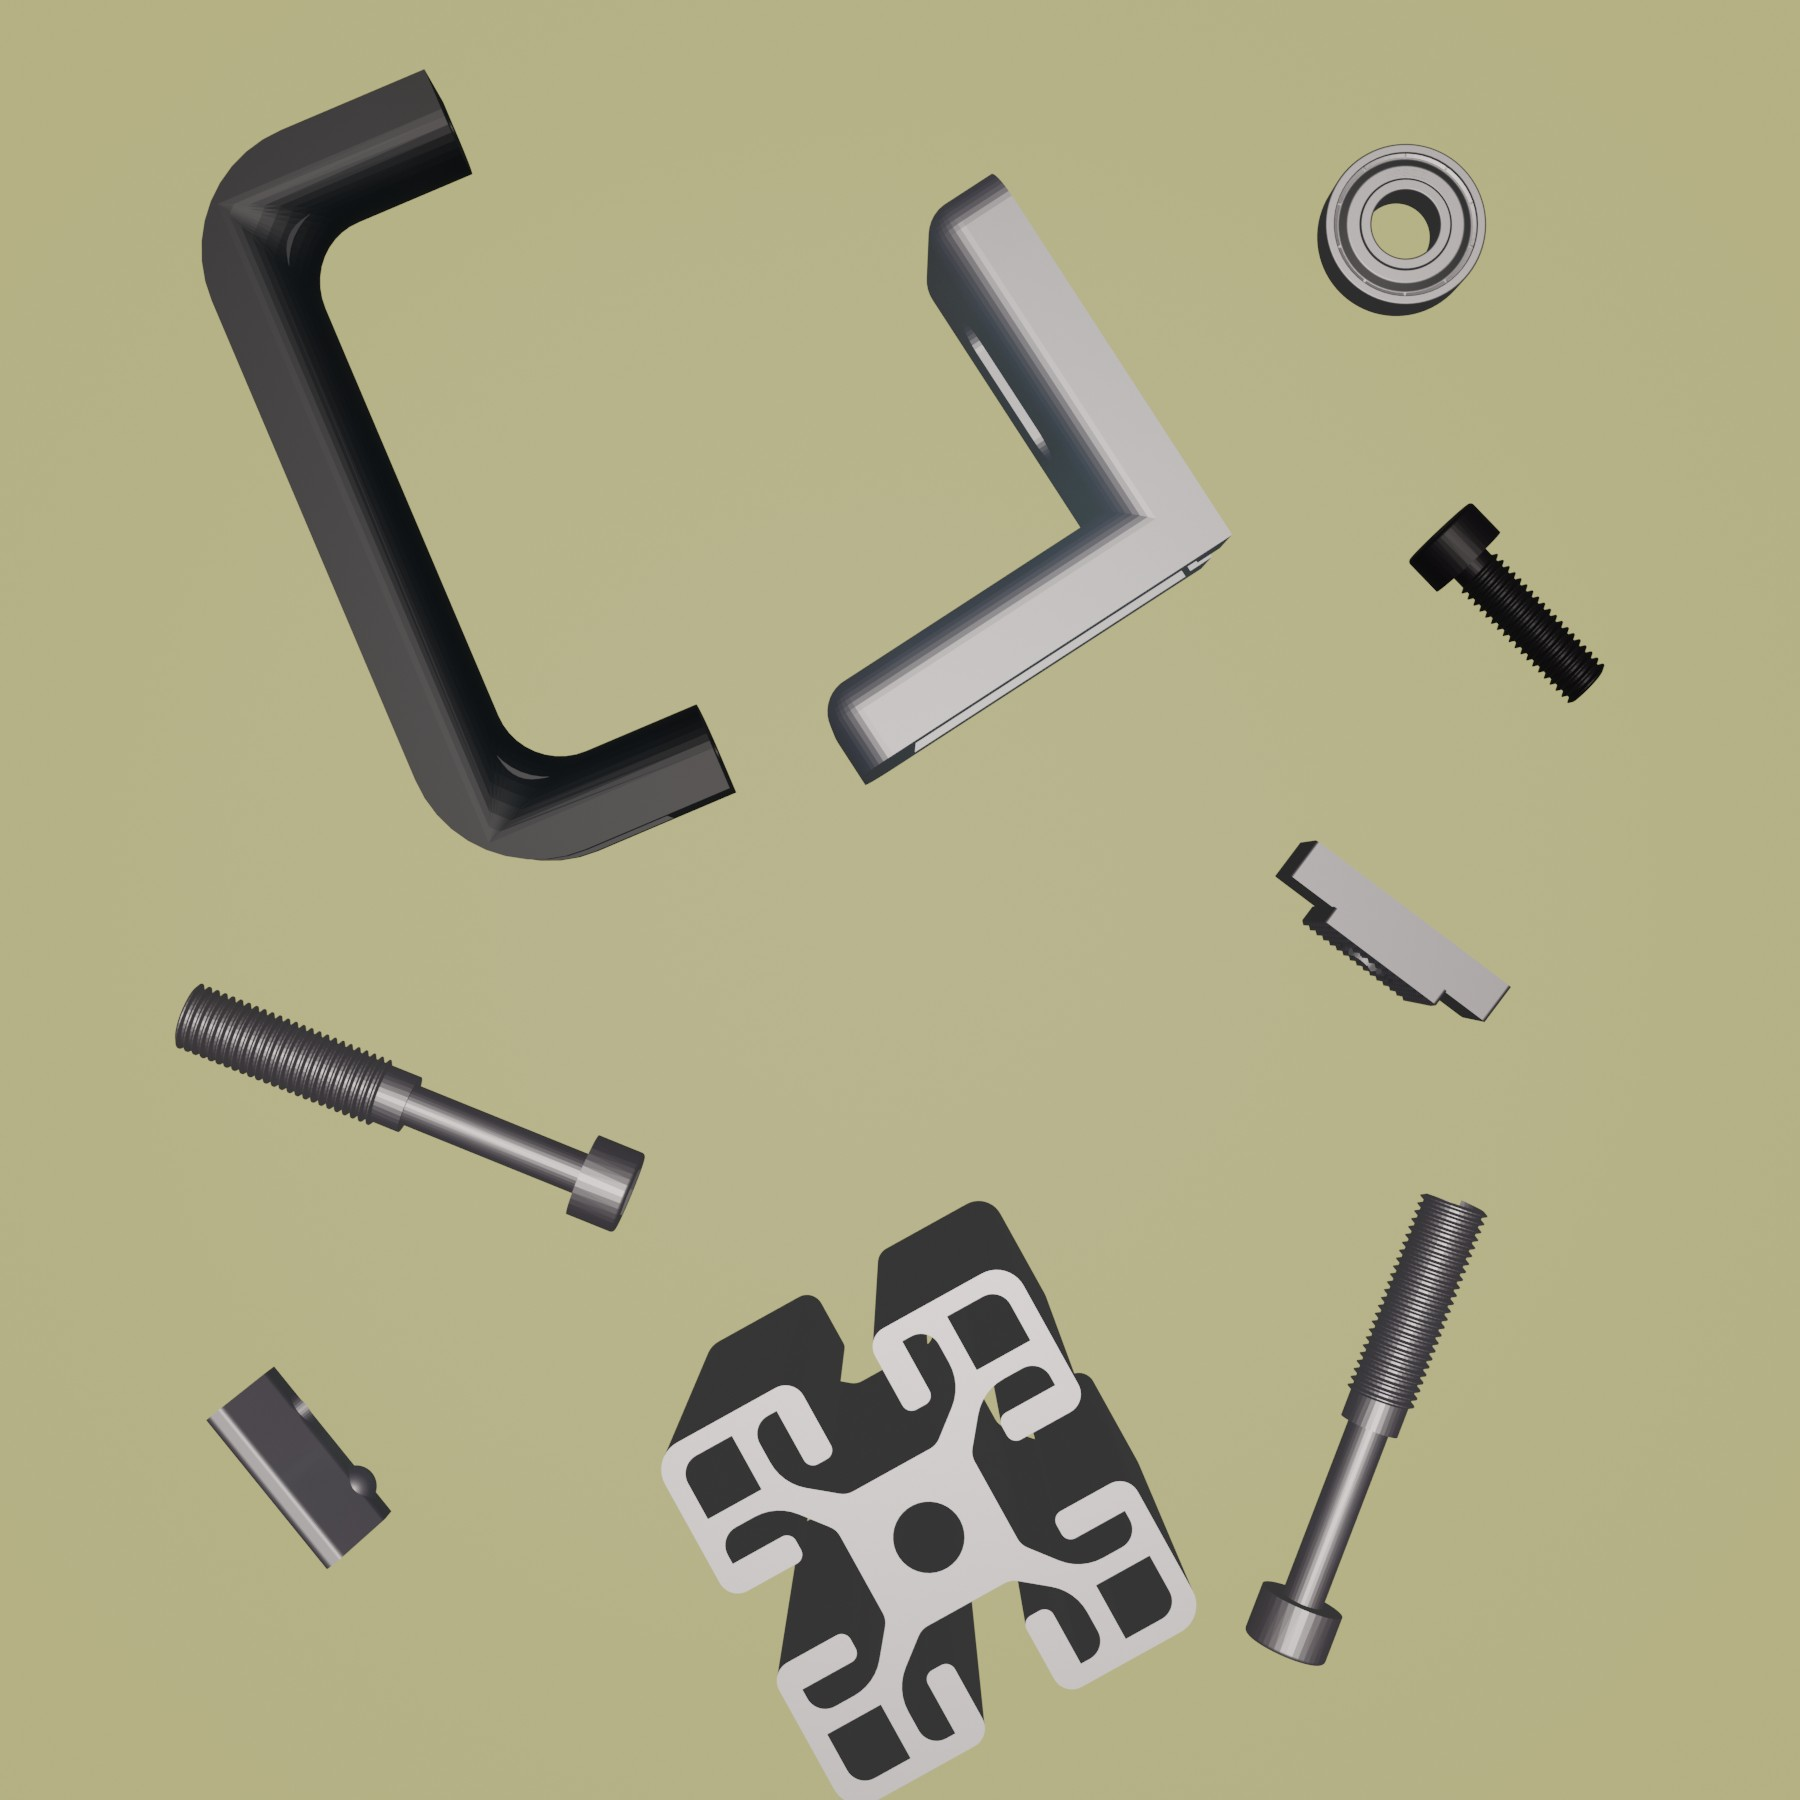Aluminium Extension: (658, 1198, 1200, 1800)
Ball Bearing: (1315, 142, 1488, 320)
Multiwinkel: (827, 175, 1233, 790)
Pull Handle: (198, 68, 738, 862)
Shoulder Socket Head Cap Screw: (170, 981, 648, 1231), (1245, 1187, 1488, 1670)
Socket Head Cap Screw: (1404, 499, 1609, 707)
T Nut Square: (1274, 836, 1513, 1025)
T Spring Nut: (203, 1363, 392, 1569)
